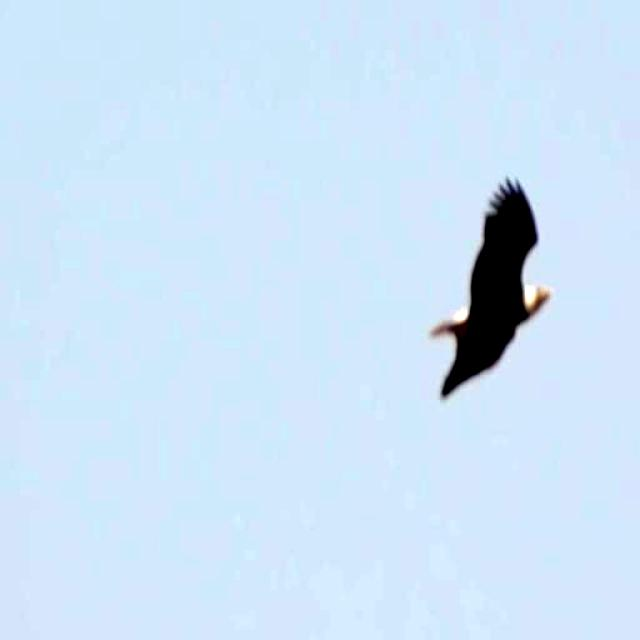airplane: (419, 168, 559, 415)
